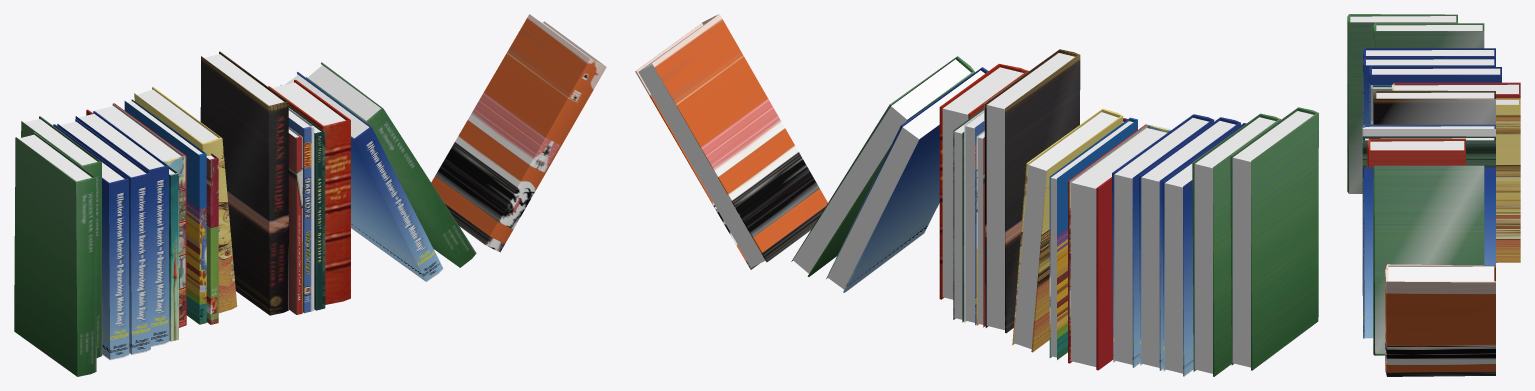
The model's file is books 7.FBX.
3 renders of one model, left to right at view 1: azimuth 30°, elevation 25°; view 2: azimuth 150°, elevation 25°; view 3: azimuth 270°, elevation 25°, orthographic. The views are drawn at different scales.
Parts seen in each view (by area): view 1: books 7; view 2: books 7; view 3: books 7.
Part boxes in pixels (x1,y1,x2,y2): books 7: [14, 14, 606, 376]; books 7: [635, 14, 1318, 376]; books 7: [1347, 14, 1520, 376].
Bounding box in the file's own units: 73.89 × 26.69 × 22.81.
1 material, 1 textured.
